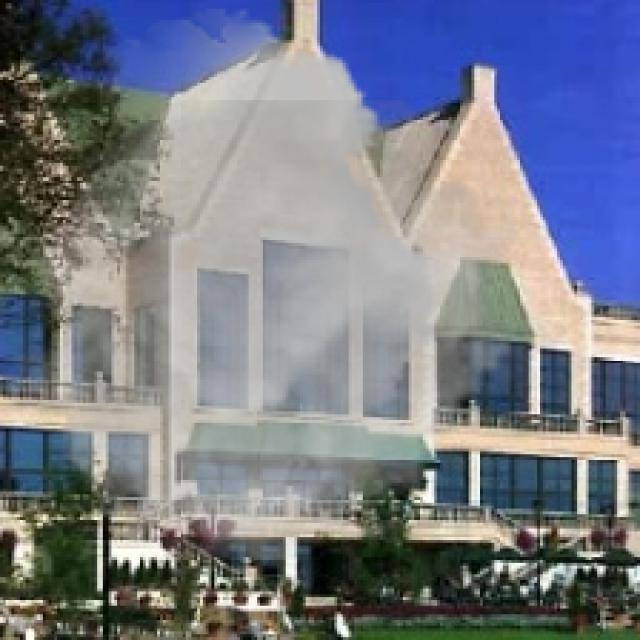smoke: (3, 9, 534, 560)
